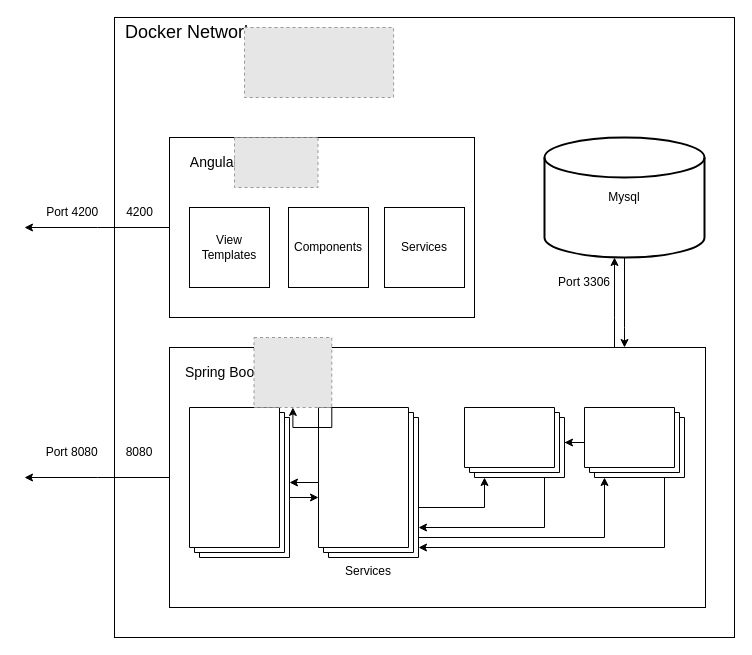
Image size: 752x655. Some labels were removed from this diagram. Grey dashed boxes stand in for pictures. Here are the shapes that lost their labels. From the top down, the centre of each, then its label:
At pixel 514 442: "Model".
At pixel 634 442: "Repo".
At pixel 239 482: "Contorller".
